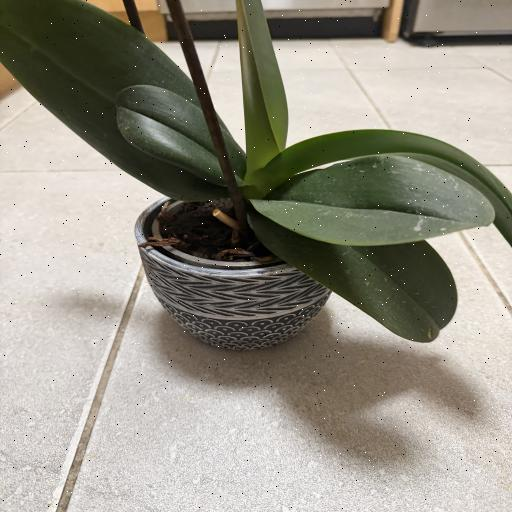Plant Pot: (133, 190, 337, 352)
